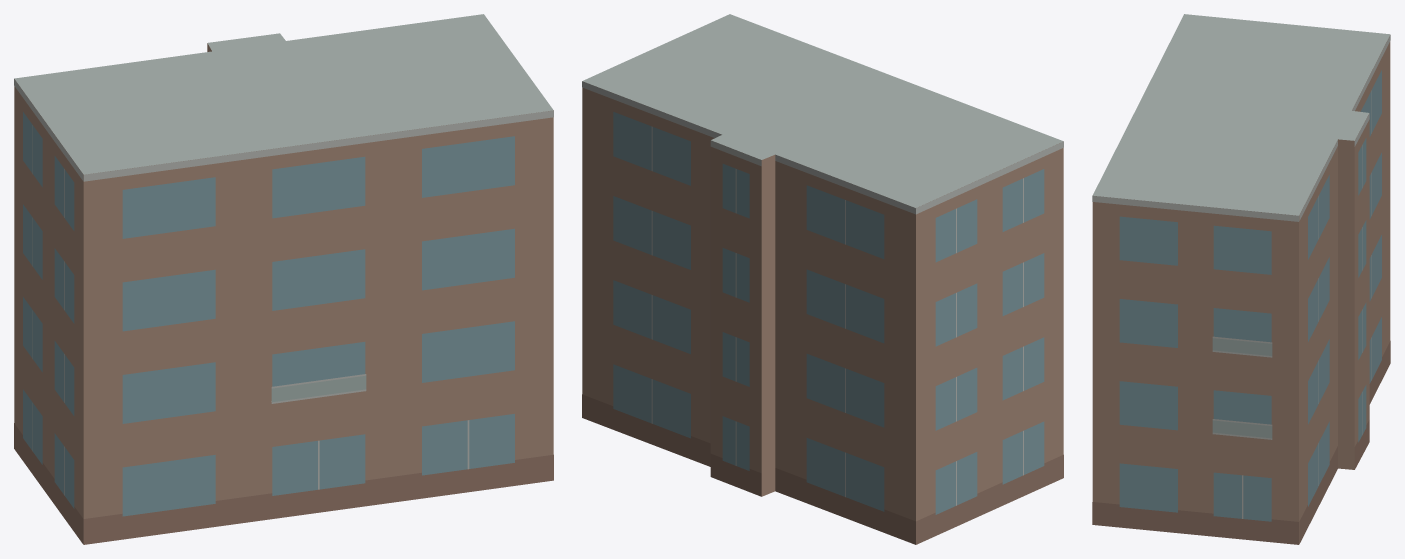
The model's file is survey-upis-32767744.glb.
3 views of the same model, side by side, from view 1: azimuth 30°, elevation 25°; view 2: azimuth 150°, elevation 25°; view 3: azimuth 270°, elevation 25° (orthographic). The views are drawn at different scales.
Parts seen in each view (by area): view 1: survey-upis-32767744.tmp; view 2: survey-upis-32767744.tmp; view 3: survey-upis-32767744.tmp.
Boxes of the visible parts, box(x1,y1,x2,y2) form: survey-upis-32767744.tmp: box(14, 14, 553, 544); survey-upis-32767744.tmp: box(582, 14, 1063, 544); survey-upis-32767744.tmp: box(1092, 14, 1390, 544).
Bounding box in the file's own units: 17.03 × 12.95 × 10.64.
